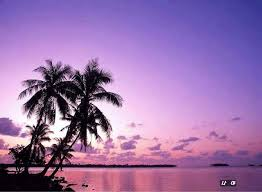sea: (68, 167, 262, 191)
sky: (108, 6, 262, 160)
tree: (13, 62, 114, 182)
